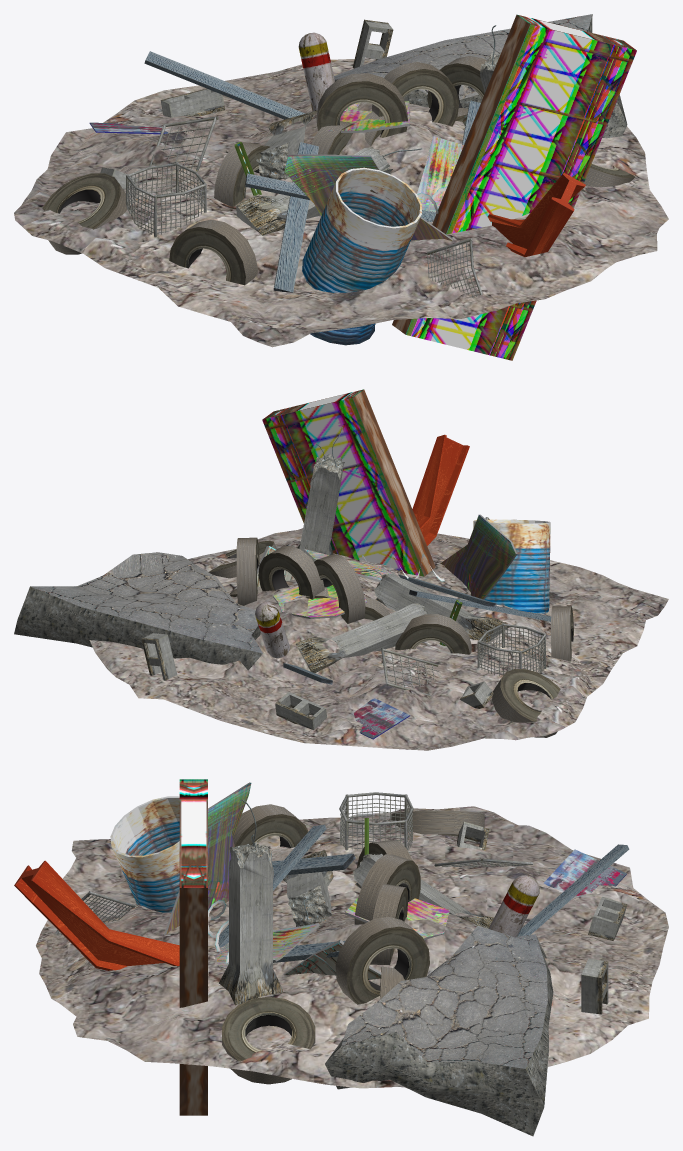
File: ComboPile3.FBX
The picture shows the model from 3 angles, top to bottom: view 1: azimuth 30°, elevation 25°; view 2: azimuth 150°, elevation 25°; view 3: azimuth 270°, elevation 25°; orthographic projection. The views are drawn at different scales.
Parts seen in each view (by area): view 1: Ground, Pipe, Cylinder01, Board (×3), ConcreteSlab, tire1 (×2), Pillar (×2), IBeam, tire08, tire11, Hesco, SheetMetal (+11 smaller); view 2: Ground, ConcreteSlab, Pipe, Pillar (×3), Cylinder01, tire1 (×2), SheetMetal, IBeam, tire12, Hesco, tire11, Metal (×2) (+10 smaller); view 3: Ground, ConcreteSlab, Pillar (×3), Pipe, IBeam, Cylinder01, tire07, Board (×4), tire02, SheetMetal, Hesco, tire11 (+12 smaller).
Part boxes in pixels (<box>): Ground: <box>14,58,668,347</box>; Pipe: <box>392,14,636,360</box>; Cylinder01: <box>302,167,421,345</box>; Board (×3): <box>144,51,435,292</box>; ConcreteSlab: <box>334,14,627,138</box>; tire1 (×2): <box>42,142,269,254</box>; Pillar (×2): <box>236,110,392,235</box>; IBeam: <box>487,173,585,256</box>; tire08: <box>169,219,257,285</box>; tire11: <box>316,73,407,137</box>; Hesco: <box>126,162,206,237</box>; SheetMetal: <box>284,154,453,240</box>; Ground: <box>89,528,668,750</box>; ConcreteSlab: <box>14,552,262,670</box>; Pipe: <box>262,389,435,576</box>; Pillar (×3): <box>295,454,509,672</box>; Cylinder01: <box>473,519,550,613</box>; tire1 (×2): <box>395,614,560,737</box>; SheetMetal: <box>440,514,517,599</box>; IBeam: <box>412,434,469,545</box>; tire12: <box>258,546,324,599</box>; Hesco: <box>477,623,545,676</box>; tire11: <box>314,554,365,623</box>; Metal (×2): <box>273,549,392,618</box>; Ground: <box>36,806,668,1088</box>; ConcreteSlab: <box>325,925,553,1136</box>; Pillar (×3): <box>219,842,494,1005</box>; Pipe: <box>179,779,207,1115</box>; IBeam: <box>14,860,179,970</box>; Cylinder01: <box>110,796,179,912</box>; tire07: <box>335,917,429,1004</box>; Board (×4): <box>215,824,629,962</box>; tire02: <box>222,996,315,1084</box>; SheetMetal: <box>164,782,251,934</box>; Hesco: <box>339,792,413,850</box>; tire11: <box>354,854,420,924</box>.
Bounding box in the file's own units: 6.26 × 3.22 × 5.53.
34 materials, 30 textured.
